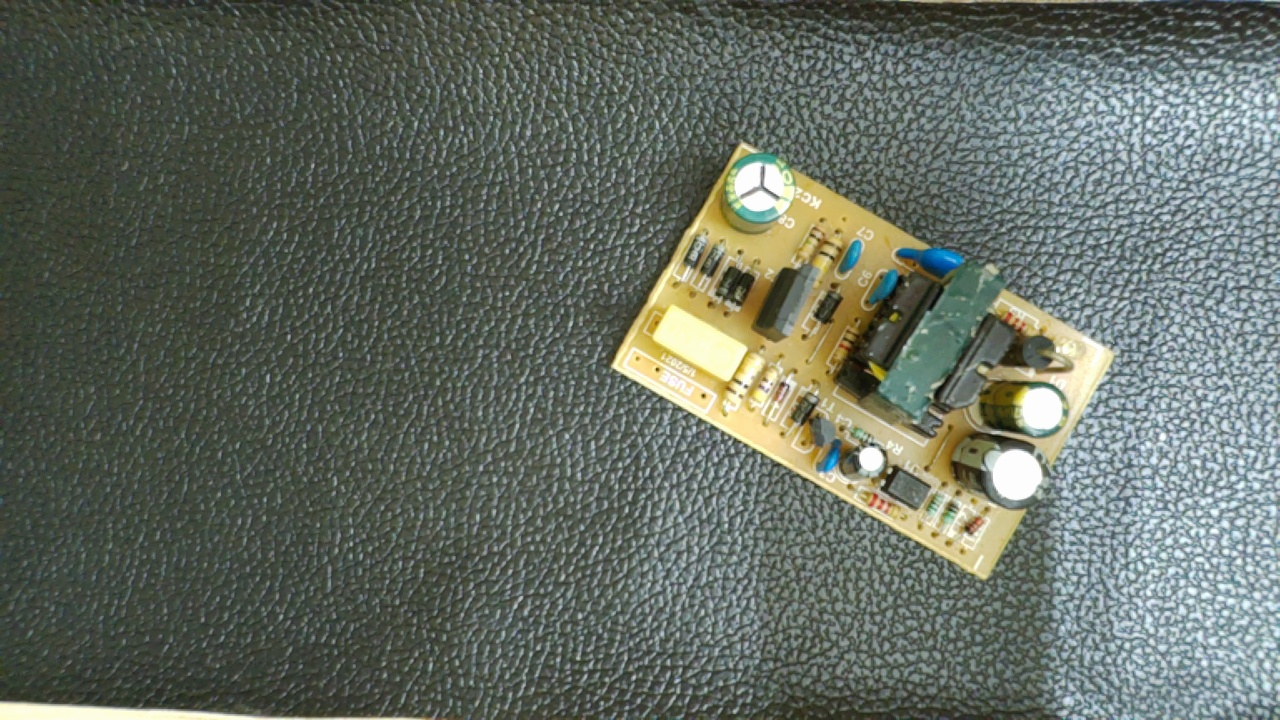hv_capacitor: (716, 153, 798, 234)
mov: (891, 242, 971, 279)
optocoupler: (882, 459, 935, 515)
